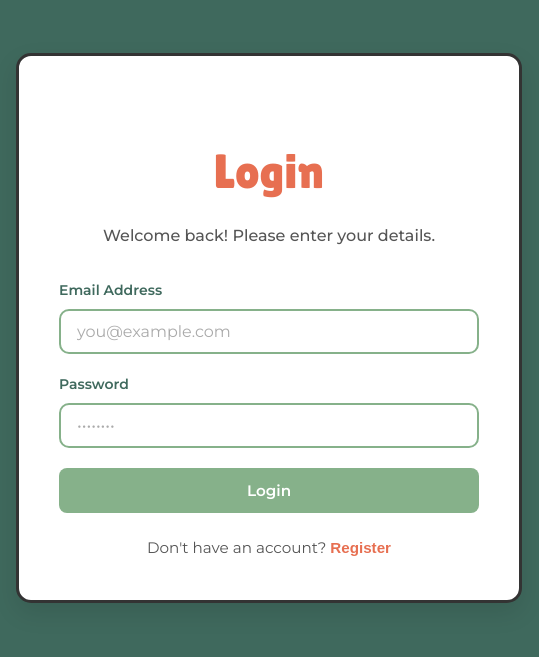
Test case: shows error message when login information missing
This screenshot has width=539, height=657.
Step 1. Type "test@email.com" into the field labelled "Email Address" → {"x": 269, "y": 332}, box left=59, top=309, right=479, bottom=354
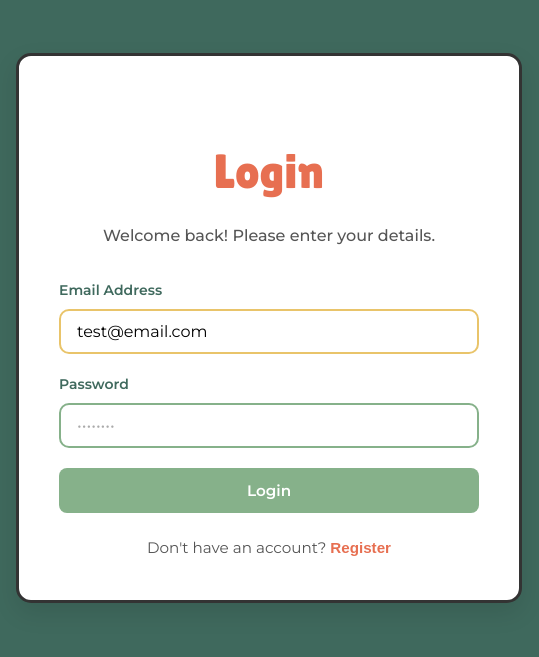
Step 2. Click the button "Login" → {"x": 269, "y": 490}, box left=59, top=468, right=479, bottom=513
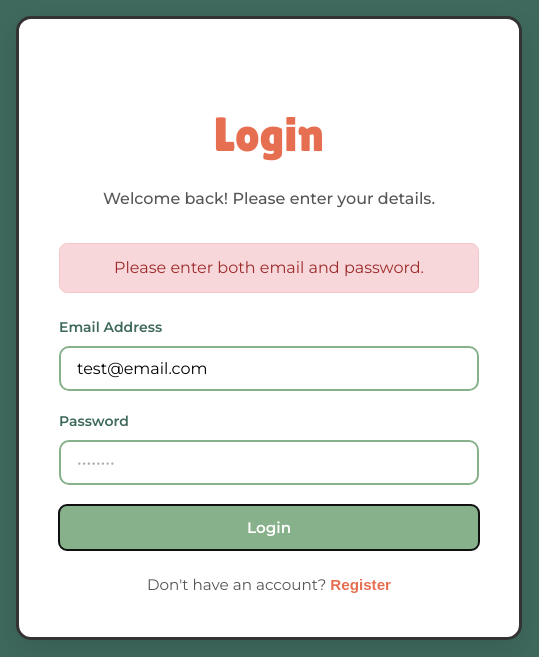
Check: the text "Please enter both email and password." is shown, box left=59, top=243, right=479, bottom=293
